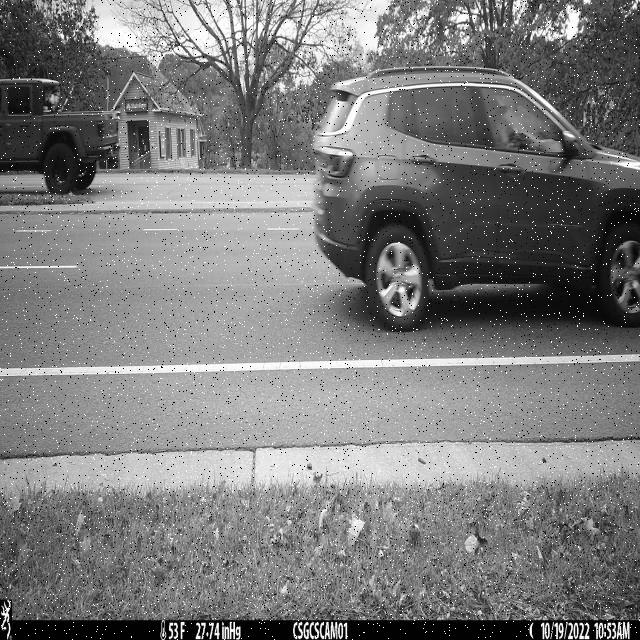SUV: (313, 67, 640, 334)
